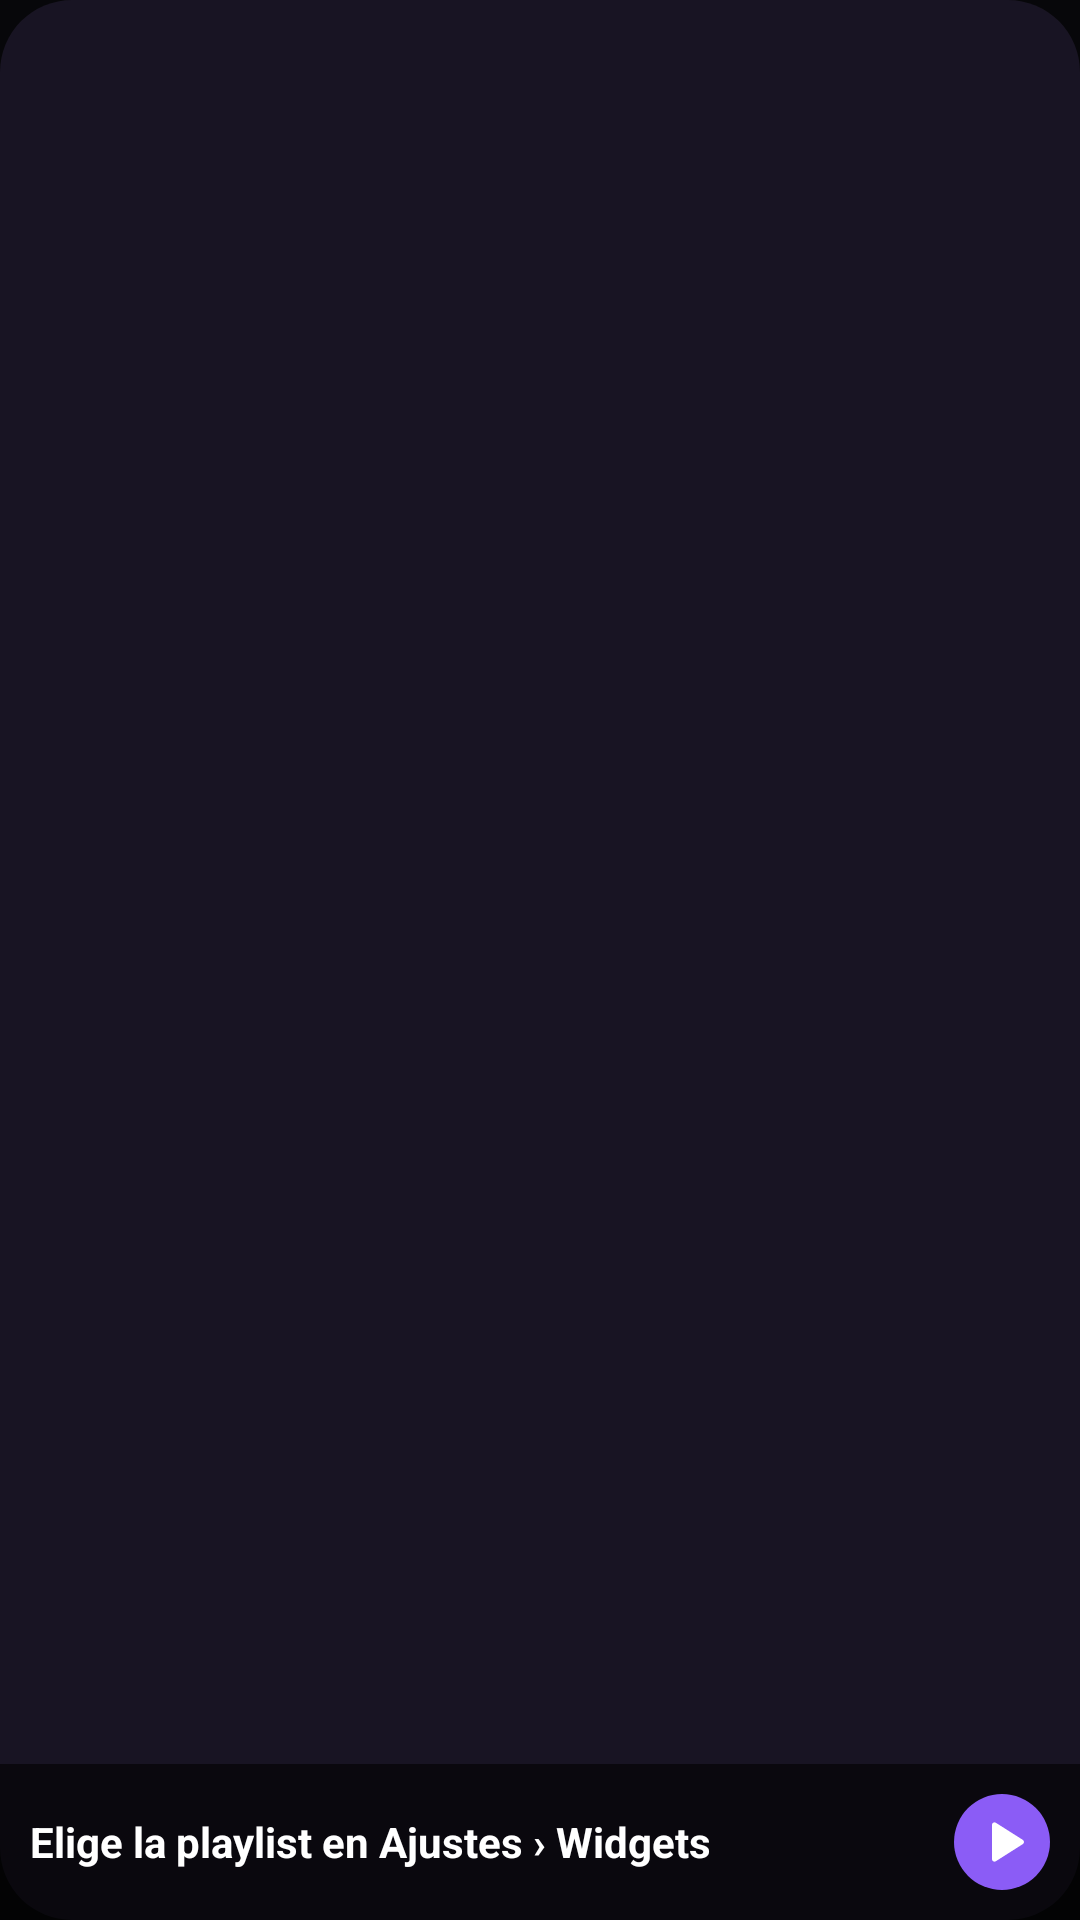

Named icons in this screenshot (1080px x 1920px) and their centers, (x,y):
Reproducir o pausar: (1002,1842)
